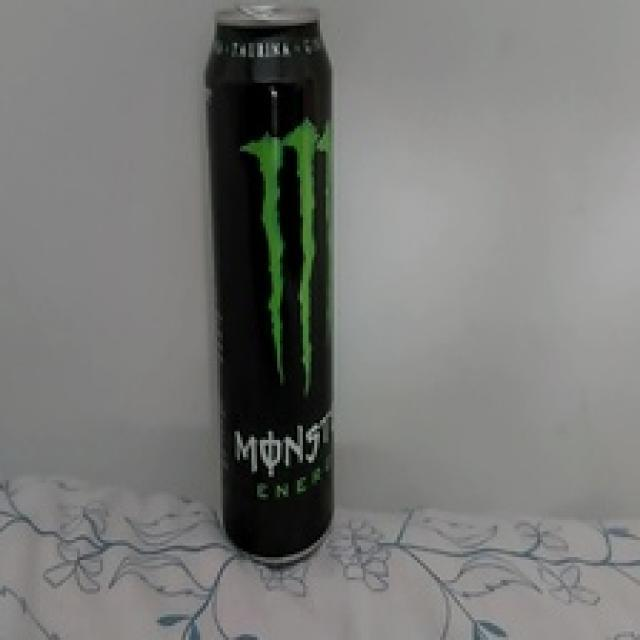recyclable: (203, 4, 334, 568)
